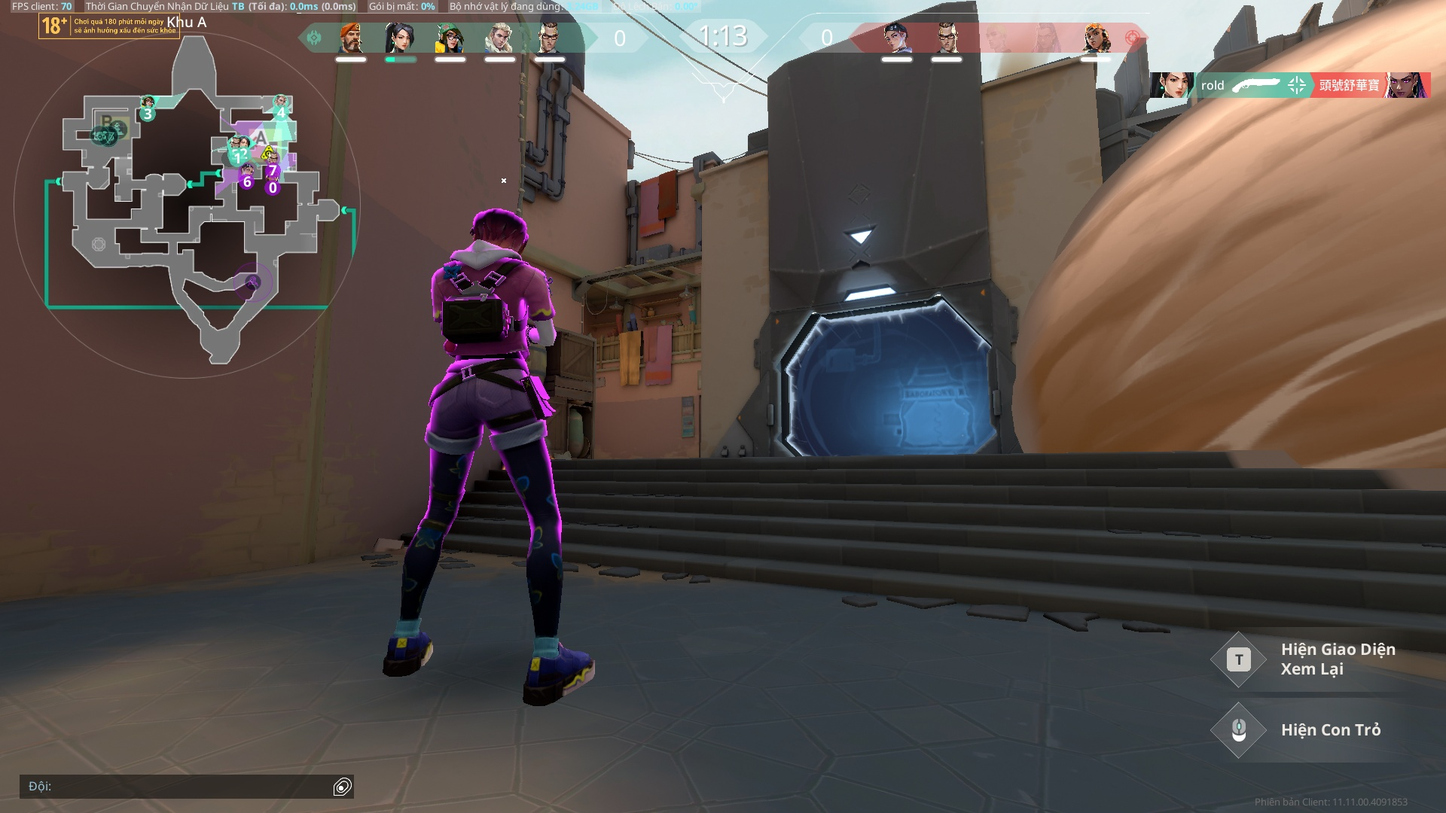body: (420, 242, 552, 363)
head: (472, 199, 532, 251)
